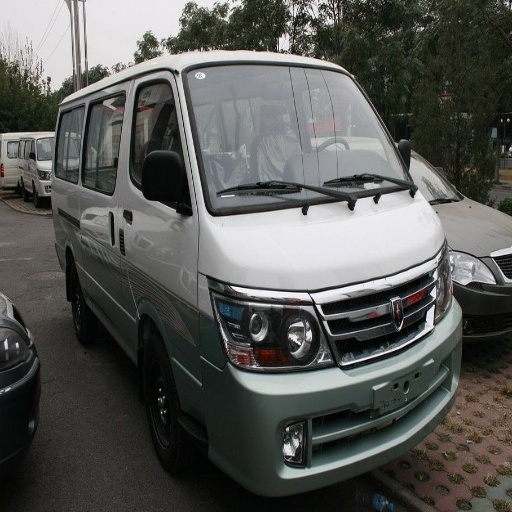front_bumper: (171, 321, 459, 492), (2, 364, 38, 423)
front_right_door: (99, 75, 198, 318)
front_right_light: (222, 300, 329, 372)
hood: (214, 191, 444, 289), (324, 270, 435, 366)
